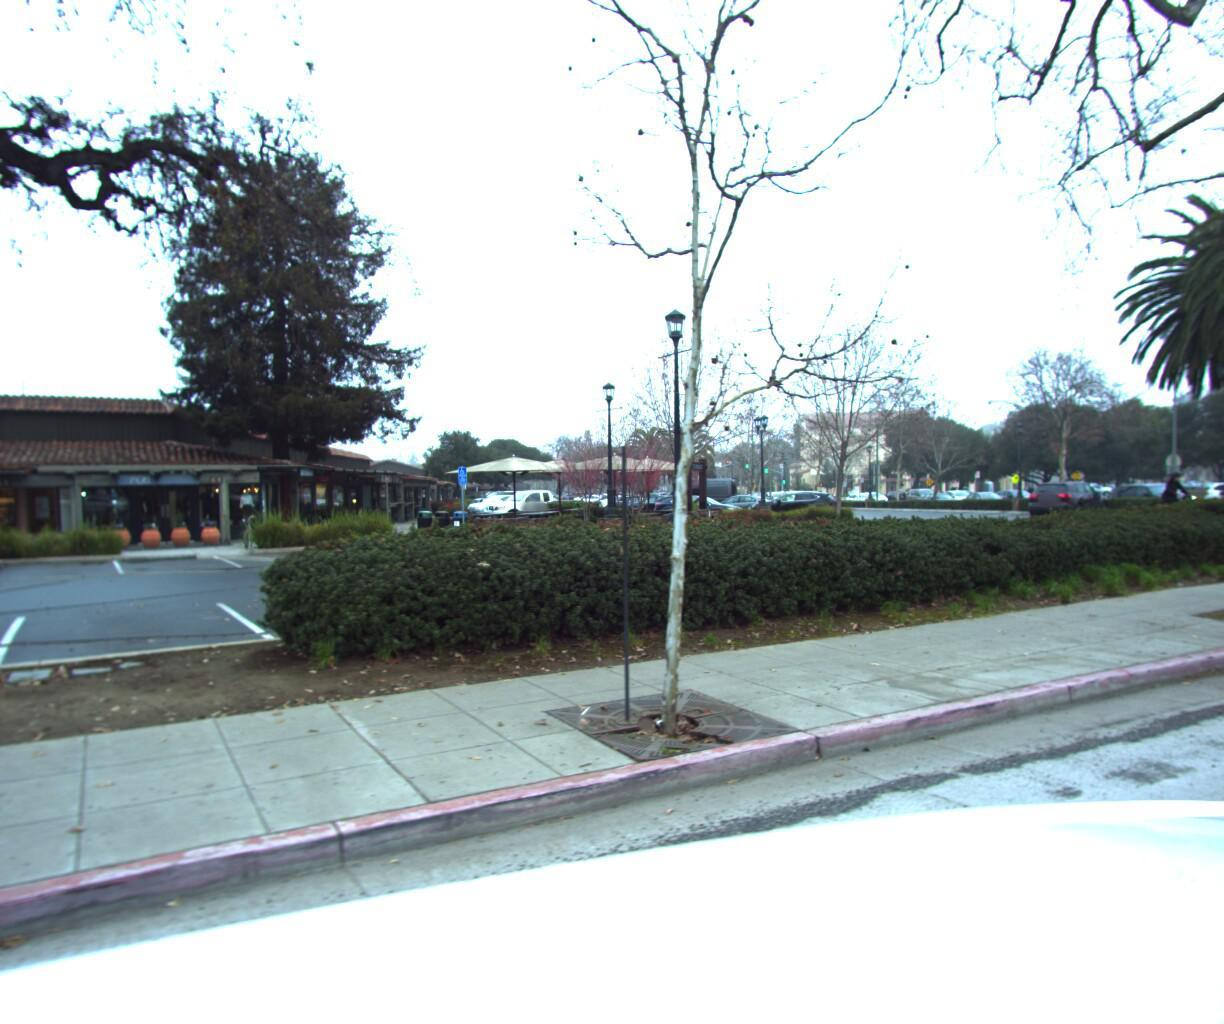bicycle: (1146, 463, 1209, 525)
car: (1027, 473, 1118, 517), (776, 484, 827, 507), (1199, 470, 1224, 511)
